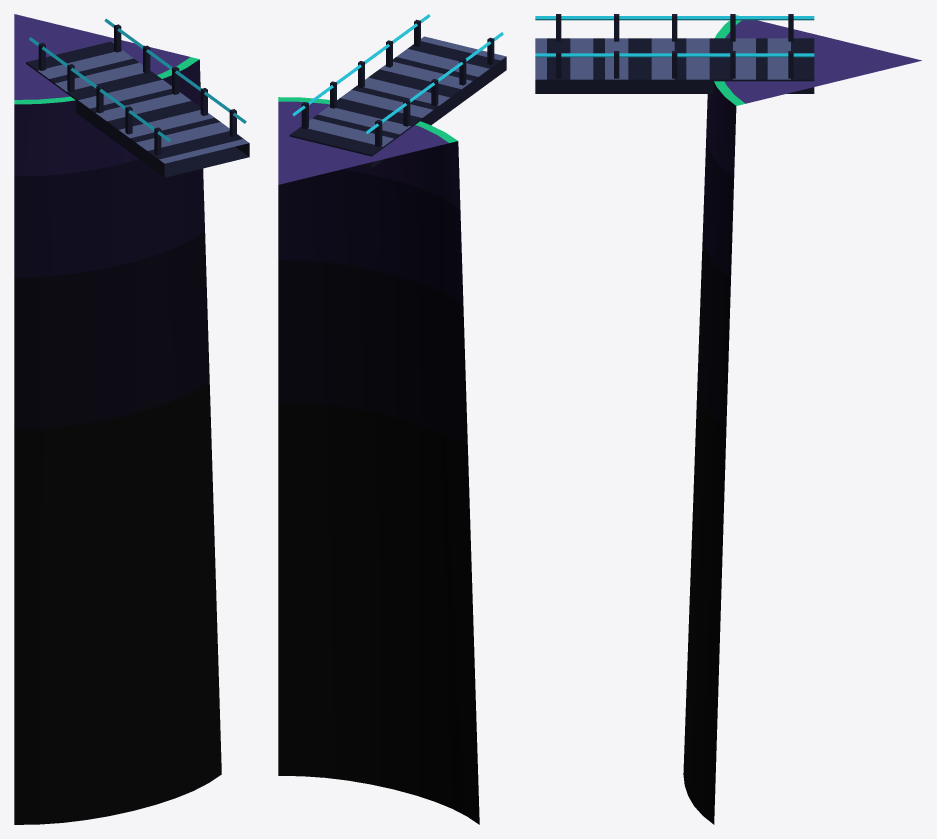
Rendered from MODULE_ALIEN_BRIDGEHEAD_2.fbx.
The picture shows the model from 3 angles, left to right: view 1: azimuth 30°, elevation 25°; view 2: azimuth 150°, elevation 25°; view 3: azimuth 270°, elevation 25°; orthographic projection. The views are drawn at different scales.
Visible parts, largest first — view 1: MODULE_ALIEN_BRIDGEHEAD_2__export, MODULE_ALIEN_BRIDGEHEAD_2_DECOR__export; view 2: MODULE_ALIEN_BRIDGEHEAD_2__export, MODULE_ALIEN_BRIDGEHEAD_2_DECOR__export; view 3: MODULE_ALIEN_BRIDGEHEAD_2__export, MODULE_ALIEN_BRIDGEHEAD_2_DECOR__export.
Part boxes in pixels (x1,y1,x2,y2): MODULE_ALIEN_BRIDGEHEAD_2__export: [14, 14, 249, 824]; MODULE_ALIEN_BRIDGEHEAD_2_DECOR__export: [29, 18, 246, 155]; MODULE_ALIEN_BRIDGEHEAD_2__export: [278, 36, 506, 824]; MODULE_ALIEN_BRIDGEHEAD_2_DECOR__export: [292, 14, 503, 146]; MODULE_ALIEN_BRIDGEHEAD_2__export: [535, 15, 921, 824]; MODULE_ALIEN_BRIDGEHEAD_2_DECOR__export: [535, 14, 814, 78].
Size of the model in its own units: 53.82 by 183 by 86.6.
